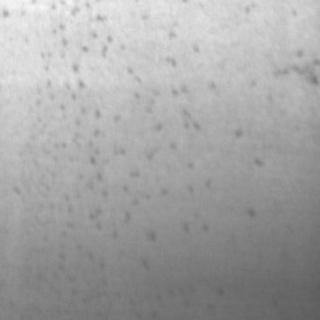pitted_surface: (24, 0, 212, 252)
